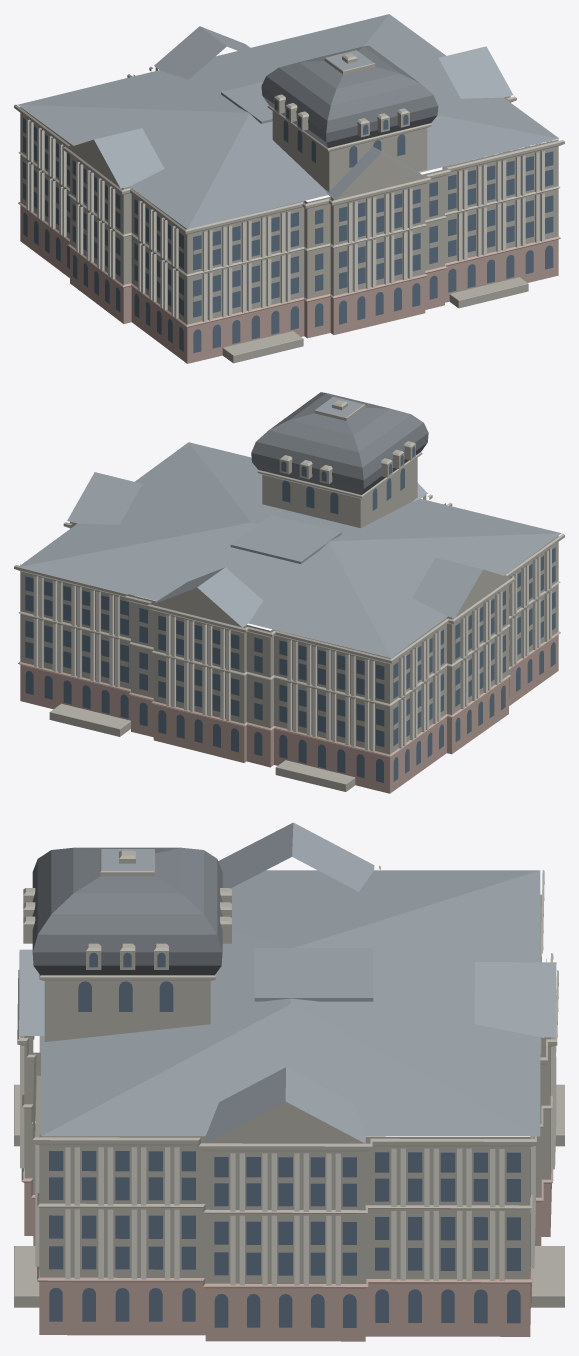
File: stl-old-post-office.glb
The picture shows the model from 3 angles, top to bottom: view 1: azimuth 30°, elevation 25°; view 2: azimuth 150°, elevation 25°; view 3: azimuth 270°, elevation 25°; orthographic projection. The views are drawn at different scales.
Visible parts, largest first — view 1: Old Post Office; view 2: Old Post Office; view 3: Old Post Office.
Boxes of the visible parts, bbox=[...] form: Old Post Office: bbox=[14, 14, 564, 363]; Old Post Office: bbox=[14, 392, 564, 793]; Old Post Office: bbox=[14, 822, 564, 1341].
Bounding box in the file's own units: 78.52 × 46.1 × 65.
